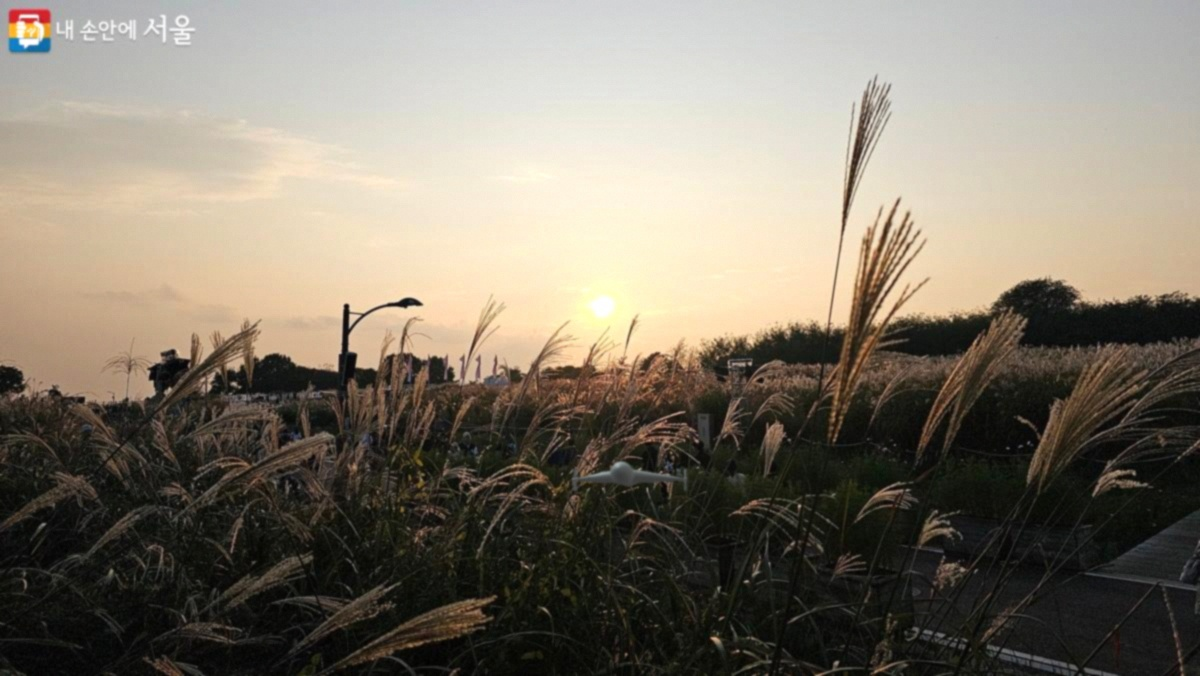shahed: (573, 459, 690, 495)
